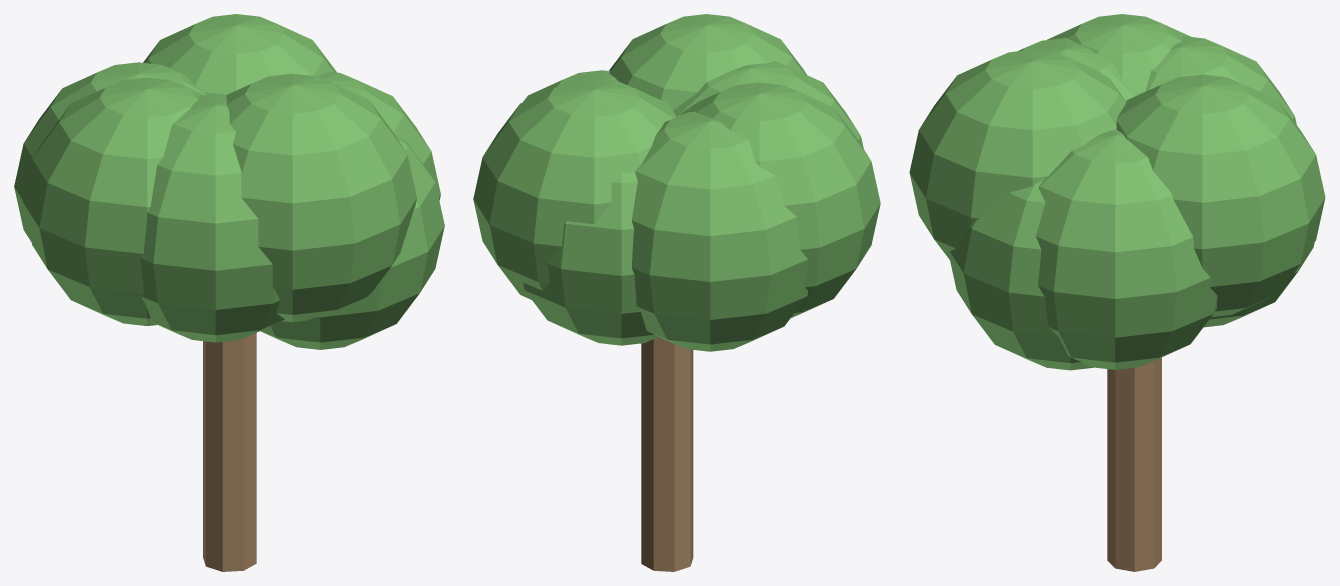
Rendered from tree_deciduous.glb.
3 renders of one model, left to right at view 1: azimuth 30°, elevation 25°; view 2: azimuth 150°, elevation 25°; view 3: azimuth 270°, elevation 25°, orthographic. The views are drawn at different scales.
Parts seen in each view (by area): view 1: Tree_Deciduous; view 2: Tree_Deciduous; view 3: Tree_Deciduous.
Part boxes in pixels (<box>): Tree_Deciduous: <box>14,14,444,571</box>; Tree_Deciduous: <box>473,14,880,571</box>; Tree_Deciduous: <box>909,14,1325,571</box>.
Size of the model in its own units: 6.37 by 8.15 by 6.09.
